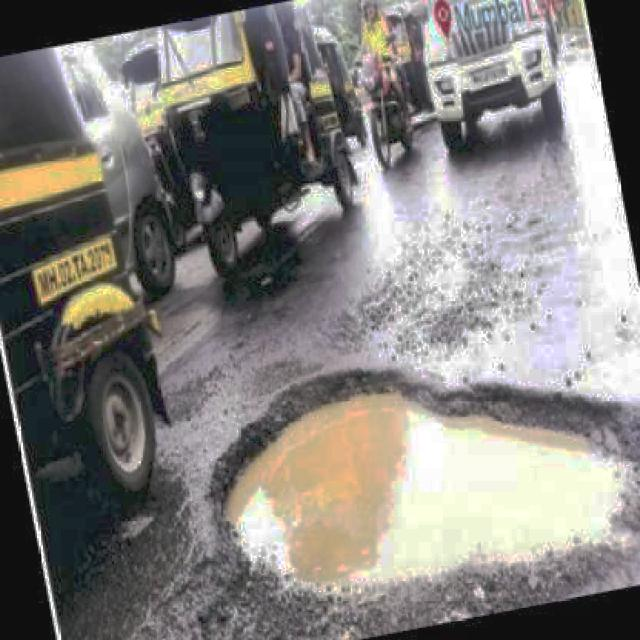pothole: (209, 368, 640, 628)
